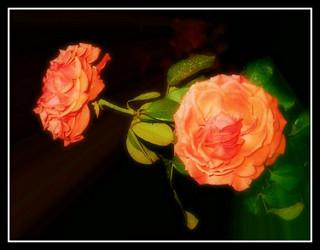Rose: (170, 65, 292, 202), (21, 31, 122, 158)
